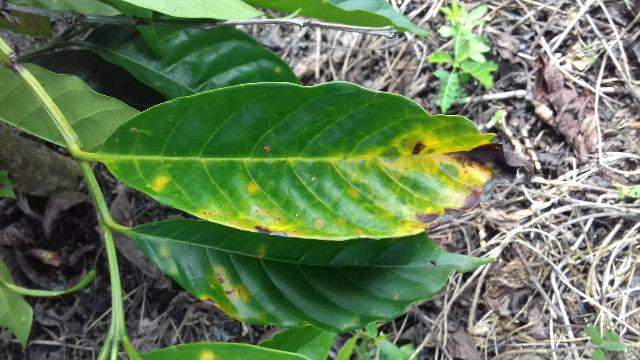rust_level_3: (99, 80, 534, 239)
